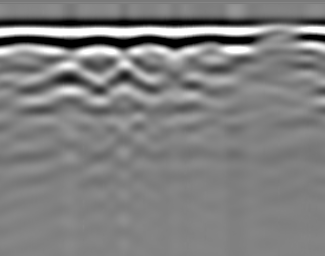pipe: (255, 22, 304, 47)
steel: (40, 65, 103, 101), (107, 64, 150, 100)
